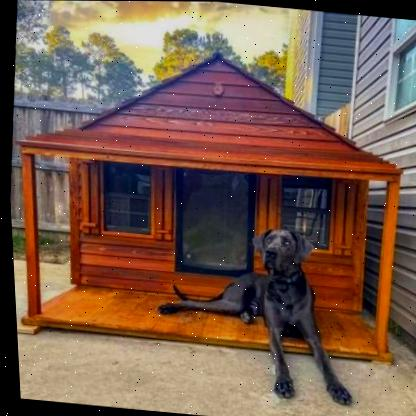dog: (138, 210, 375, 413)
